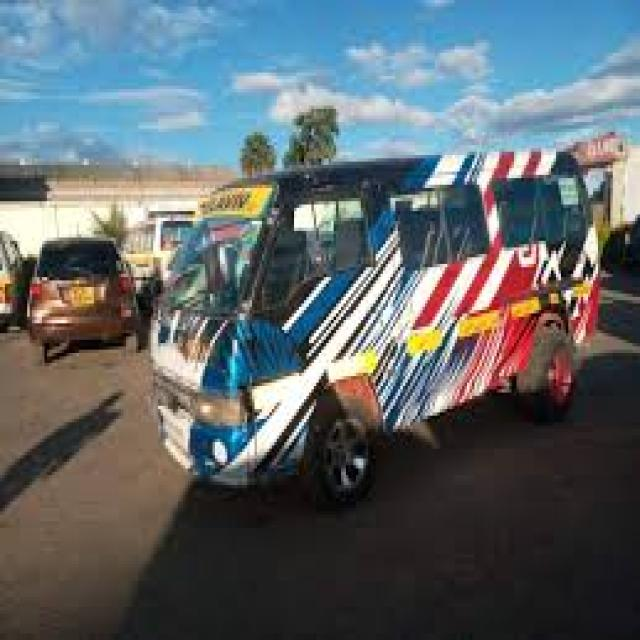matatu: (126, 128, 615, 532)
